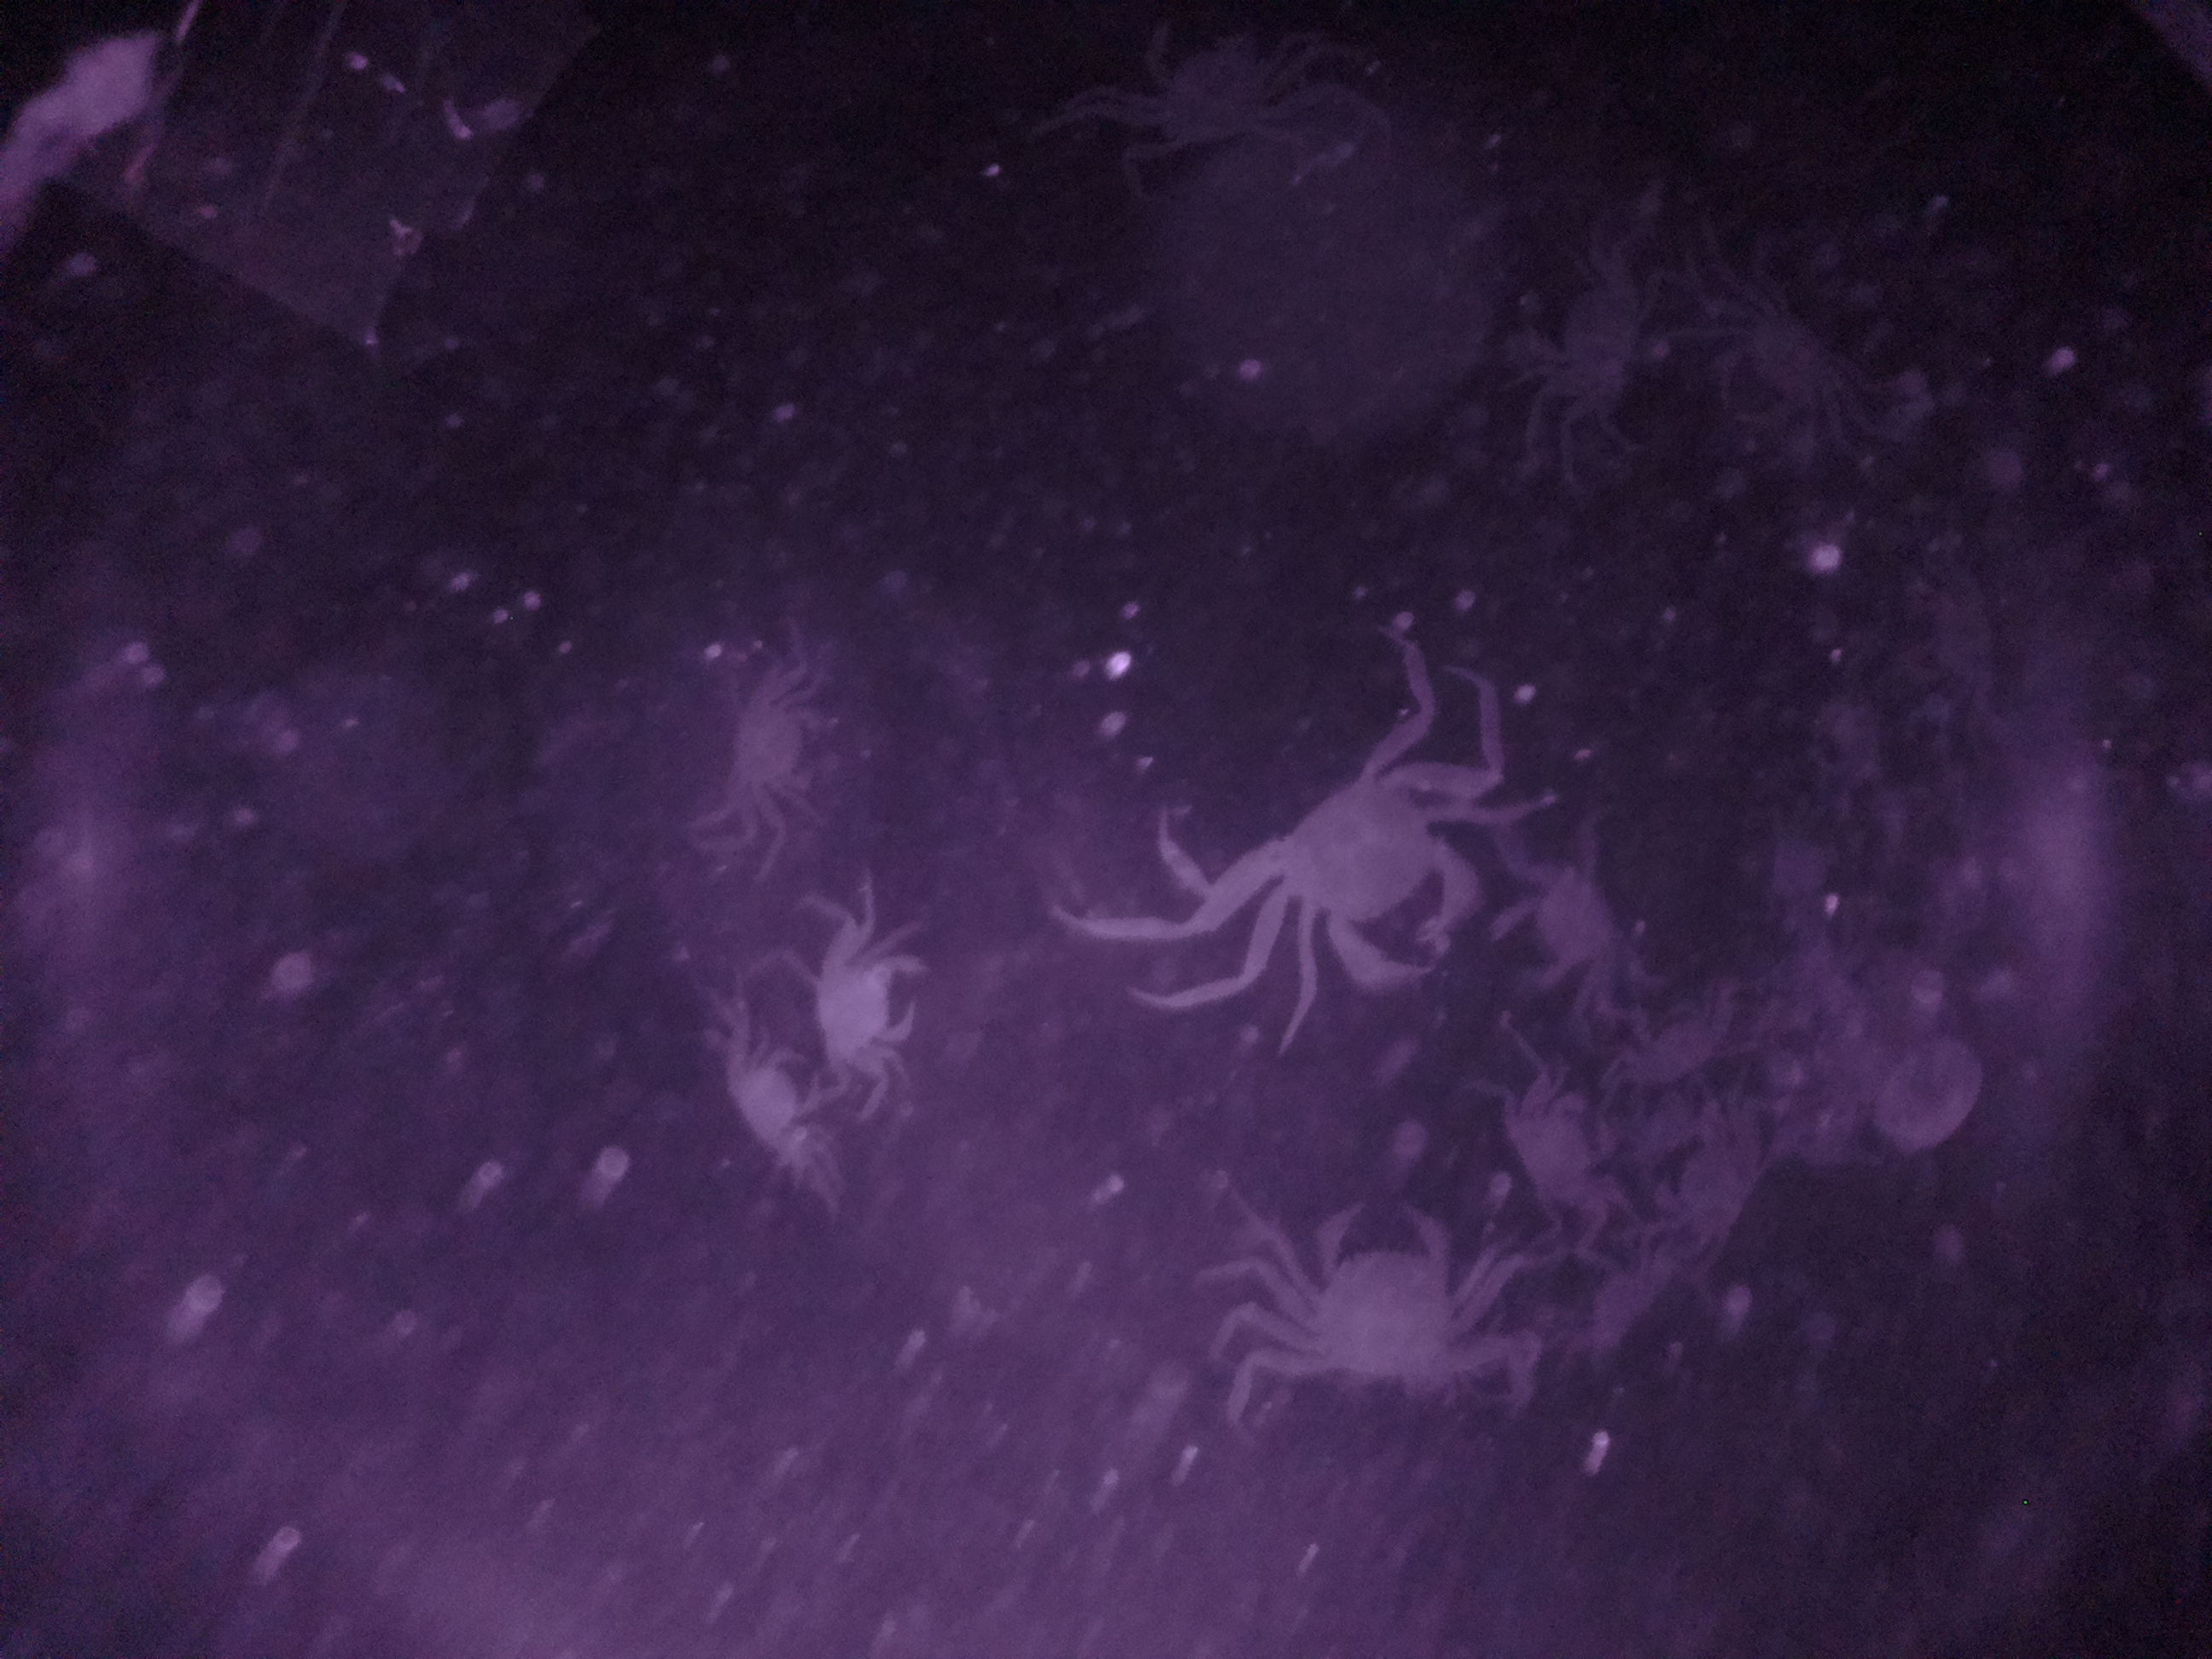Crab: (1251, 713, 1486, 1006), (1268, 1197, 1491, 1405), (1507, 190, 1686, 434), (1484, 836, 1665, 1019), (1702, 272, 1869, 453), (787, 918, 935, 1098), (1491, 1070, 1644, 1223), (718, 647, 833, 849)
